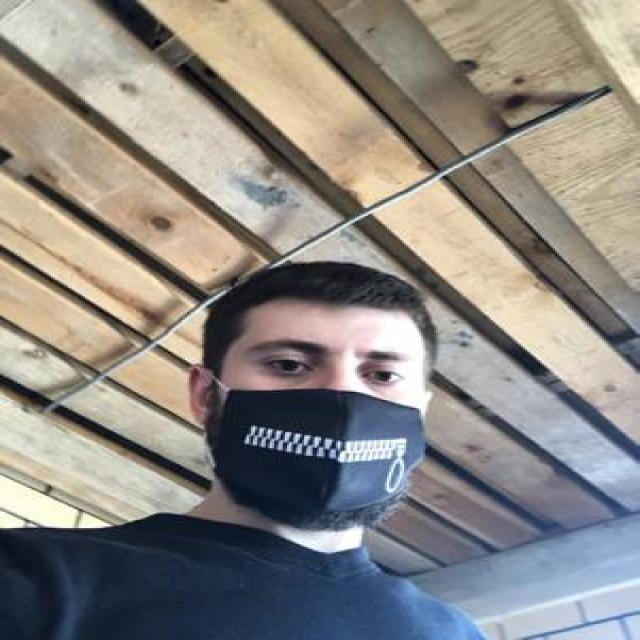with_mask: (216, 326, 428, 529)
